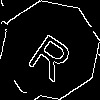R: (25, 25, 81, 83)
